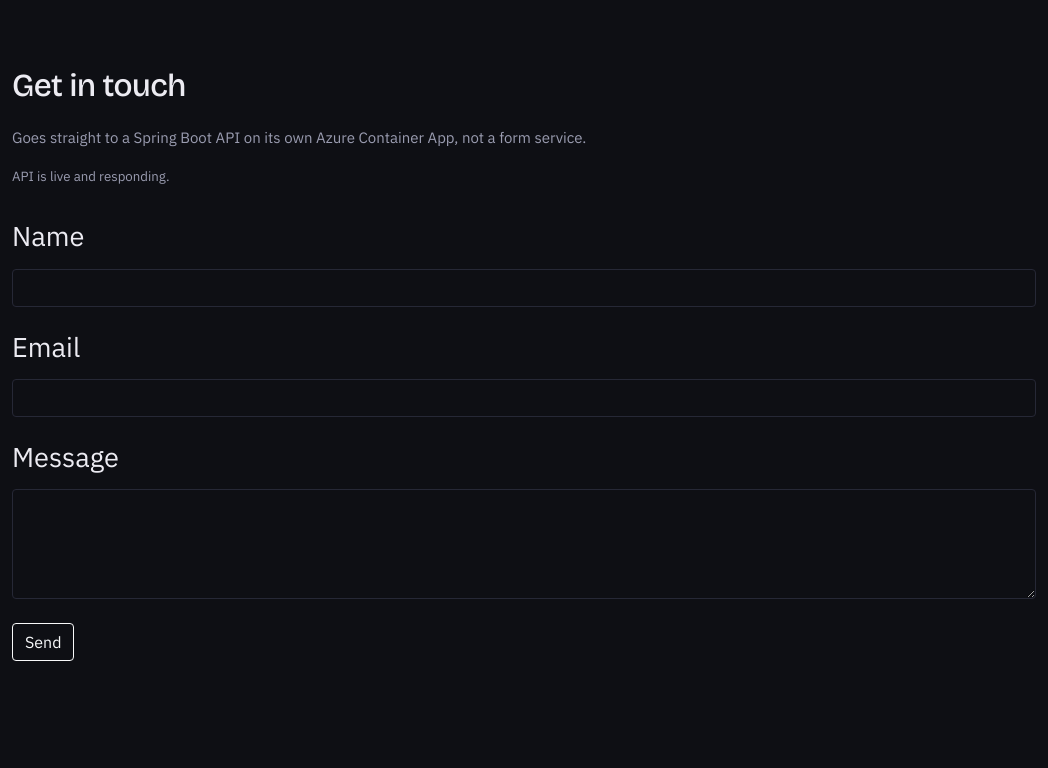
Test: Contact › shows an error message when the request fails
Type "Ada" into the field labelled "Name" at (524, 288), box x1=12 y1=269 x2=1036 y2=307
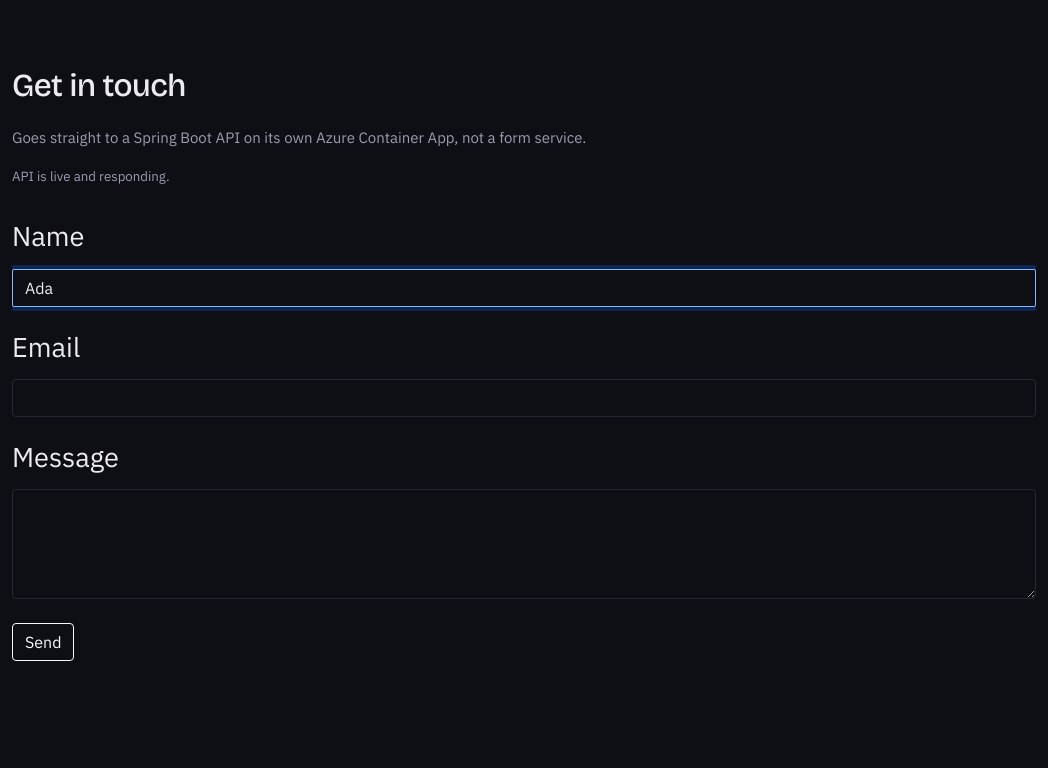
Type "ada@example.com" into the field labelled "Email" at (524, 398), box x1=12 y1=379 x2=1036 y2=417
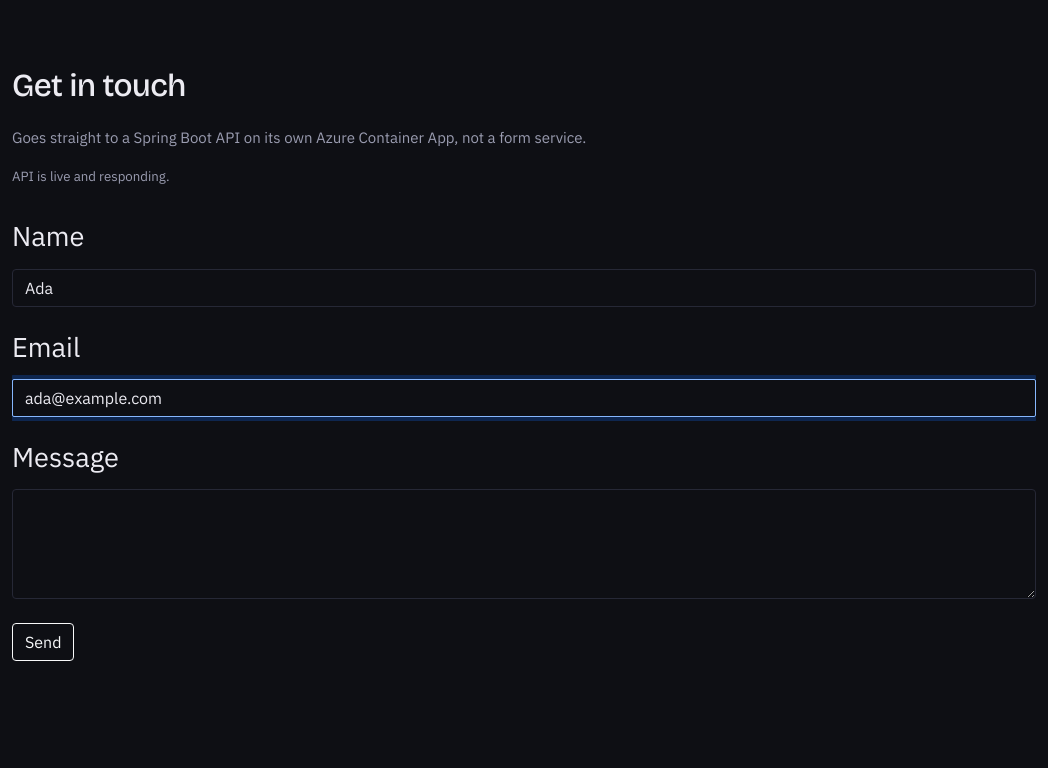
Type "Hello there" into the text box labelled "Message" at (524, 544), box x1=12 y1=489 x2=1036 y2=599
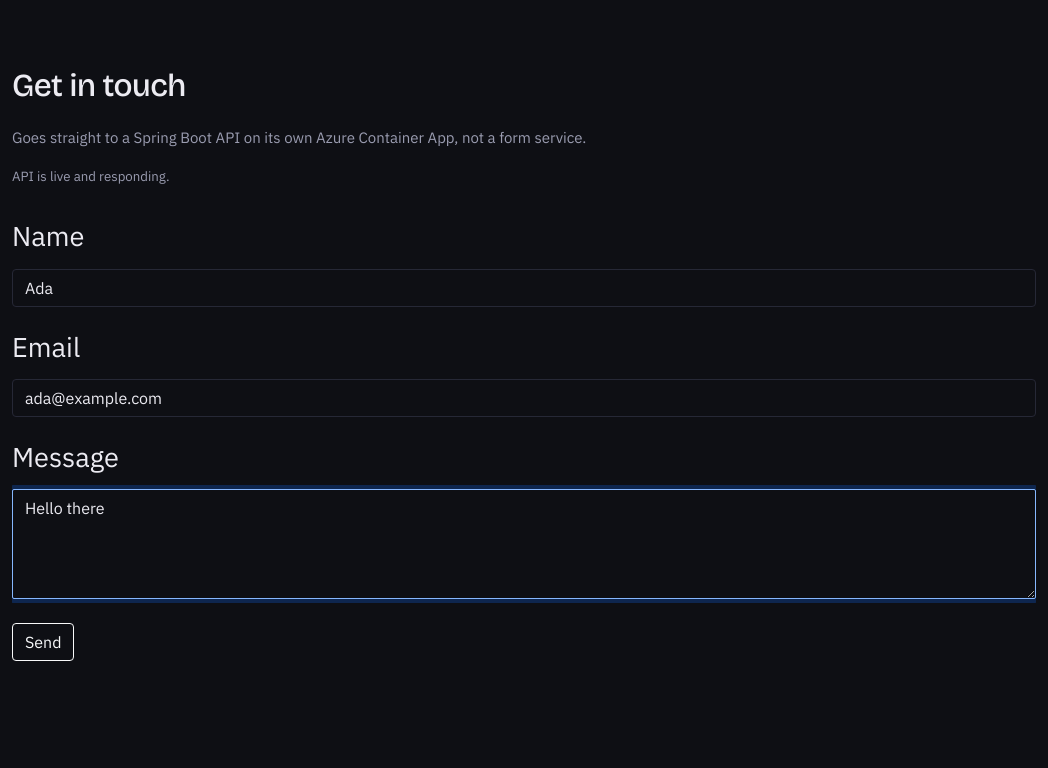
Click the button "Send" at (43, 642), box x1=12 y1=623 x2=74 y2=661
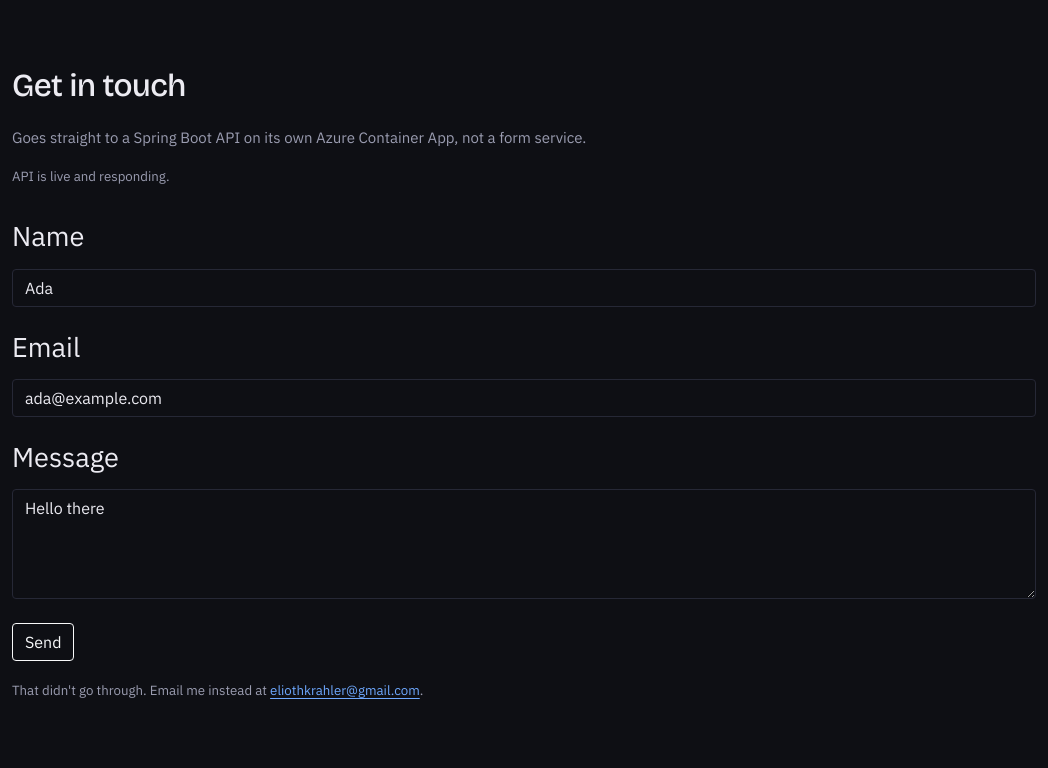
Now the text "That didn't go through. Email me instead at eliothkrahler@gmail.com ." is shown, box x1=12 y1=681 x2=423 y2=699
